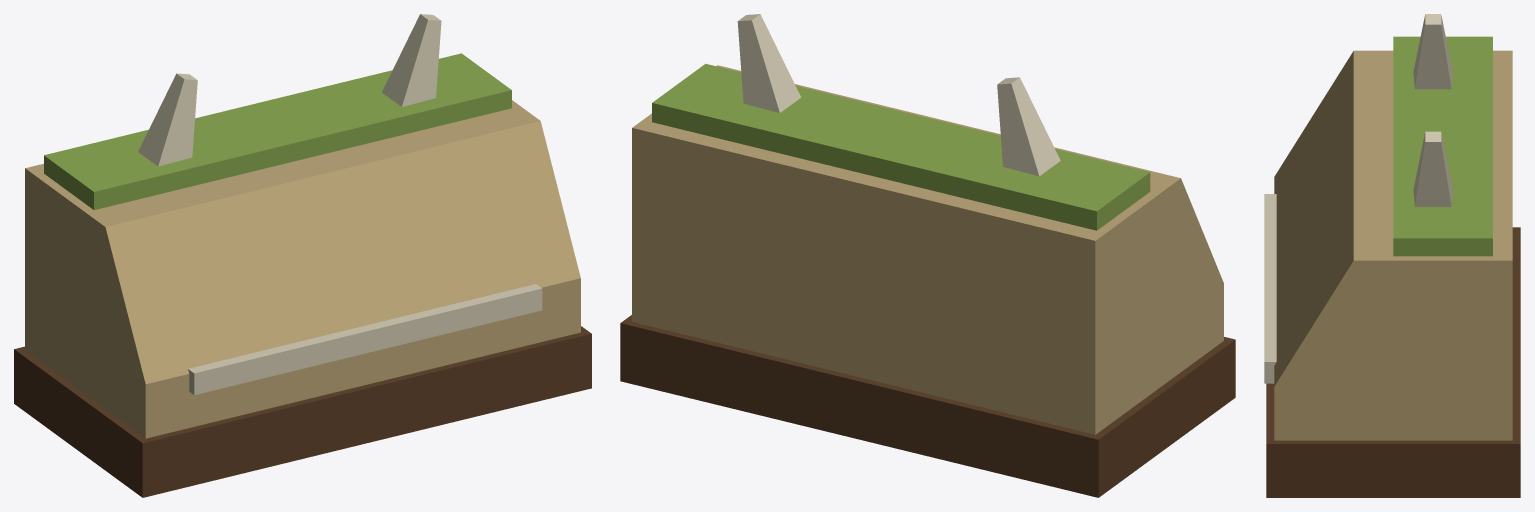
The model's file is barrierB.glb.
3 renders of one model, left to right at view 1: azimuth 30°, elevation 25°; view 2: azimuth 150°, elevation 25°; view 3: azimuth 270°, elevation 25°, orthographic. The views are drawn at different scales.
Visible parts, largest first — view 1: dinoValley-barrierB; view 2: dinoValley-barrierB; view 3: dinoValley-barrierB.
Part boxes in pixels (<box>): dinoValley-barrierB: <box>14,14,591,497</box>; dinoValley-barrierB: <box>620,14,1235,497</box>; dinoValley-barrierB: <box>1264,14,1520,497</box>.
Bounding box in the file's own units: 0.258 × 0.1811 × 0.129.
